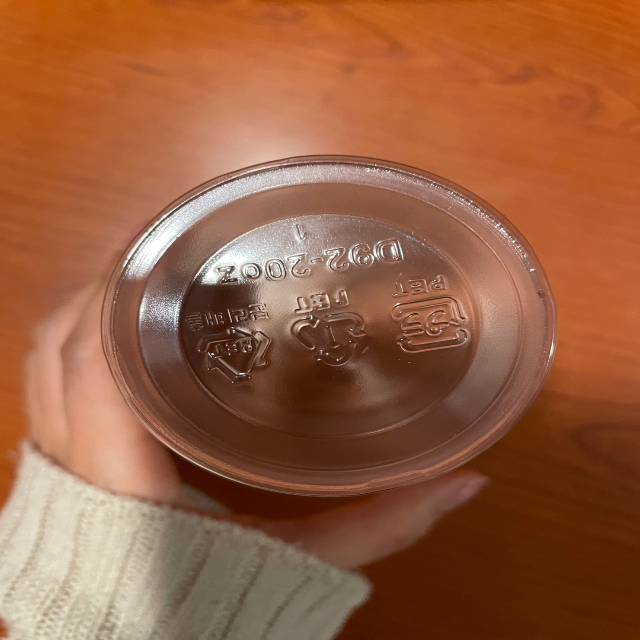pet: (177, 299, 281, 389), (389, 275, 476, 358), (287, 290, 371, 374)
